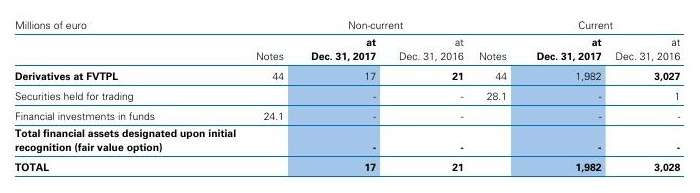table: (0, 0, 700, 193)
